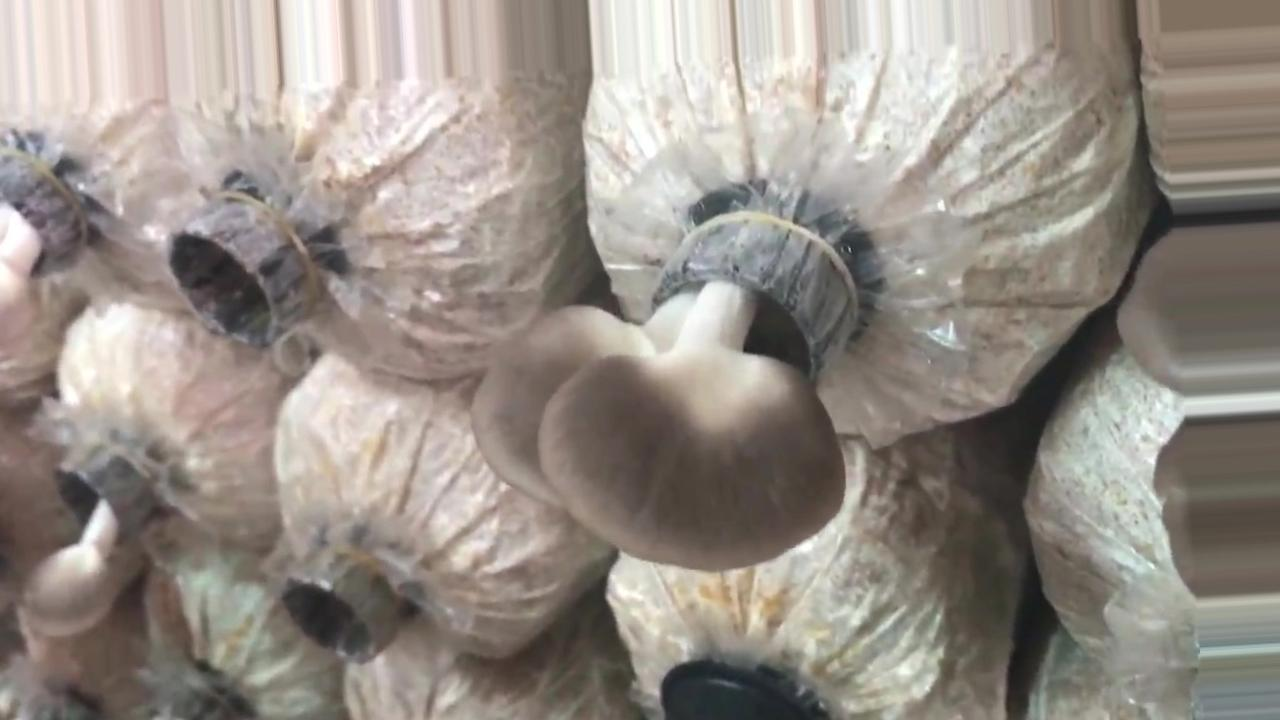nam: (473, 200, 863, 577), (23, 435, 156, 638)
